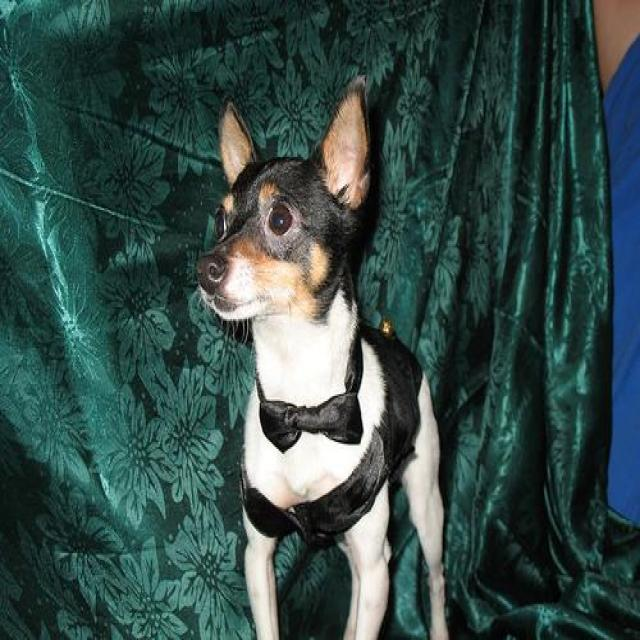toy_terrier: (196, 74, 457, 638)
